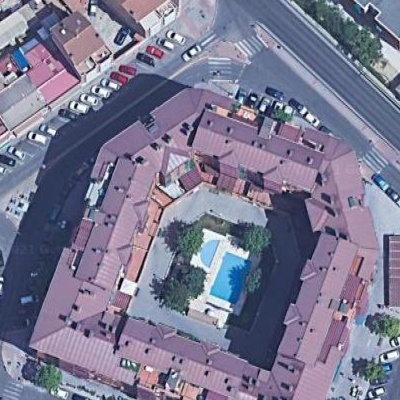tree: (154, 261, 206, 312), (342, 18, 379, 66), (172, 220, 207, 255), (240, 219, 274, 255), (35, 362, 67, 398), (243, 266, 271, 302), (360, 358, 387, 386), (377, 312, 400, 340)
